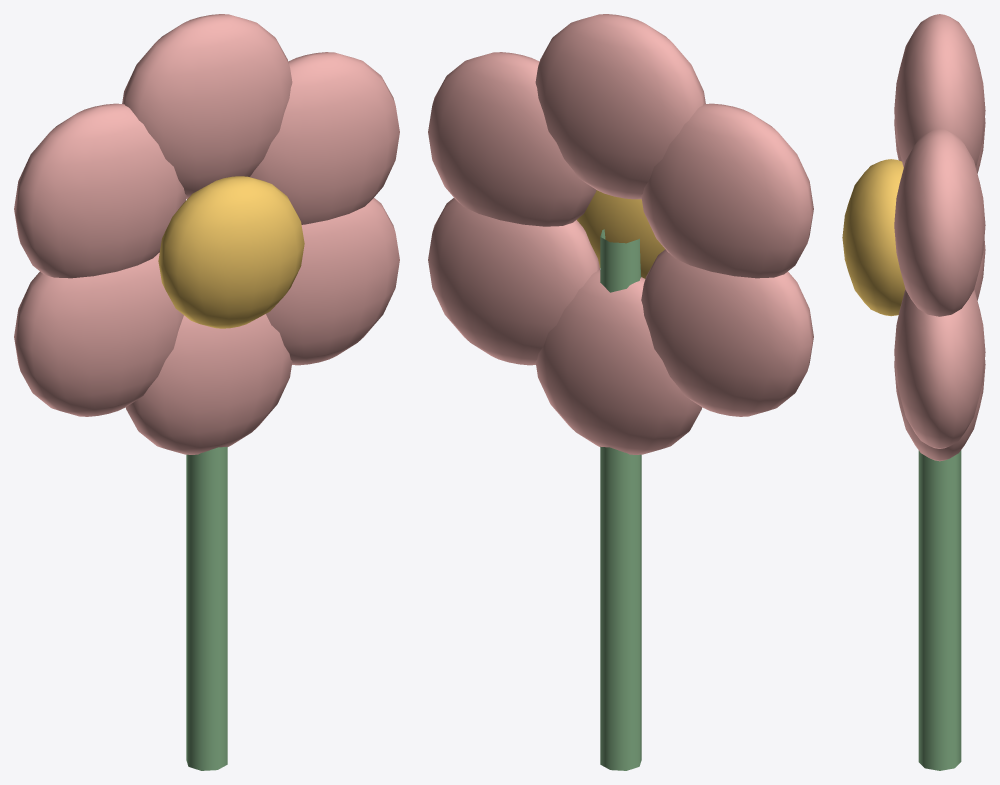
File: word-flower.glb
3 renders of one model, left to right at view 1: azimuth 30°, elevation 25°; view 2: azimuth 150°, elevation 25°; view 3: azimuth 270°, elevation 25°, orthographic.
Parts seen in each view (by area): view 1: flower petal.005, flower petal, flower petal.004, flower petal.001, flower center, flower petal.003, flower petal.002, flower stem; view 2: flower petal.005, flower petal, flower petal.004, flower petal.001, flower petal.002, flower petal.003, flower stem, flower center; view 3: flower stem, flower petal.001, flower petal.002, flower petal, flower center, flower petal.003.
Boxes of the visible parts, <box> form: flower petal.005: <box>14,103,186,278</box>; flower petal: <box>122,14,292,199</box>; flower petal.004: <box>14,253,183,416</box>; flower petal.001: <box>250,52,399,224</box>; flower center: <box>158,176,304,328</box>; flower petal.003: <box>125,314,292,454</box>; flower petal.002: <box>266,198,399,365</box>; flower stem: <box>186,446,227,770</box>; flower petal.005: <box>641,103,813,278</box>; flower petal: <box>535,14,705,199</box>; flower petal.004: <box>641,249,813,416</box>; flower petal.001: <box>428,52,596,226</box>; flower petal.002: <box>428,198,599,365</box>; flower petal.003: <box>535,270,702,454</box>; flower stem: <box>600,229,641,770</box>; flower center: <box>577,190,664,278</box>; flower stem: <box>918,450,961,770</box>; flower petal.001: <box>894,129,985,316</box>; flower petal.002: <box>894,289,985,448</box>; flower petal: <box>894,14,985,167</box>; flower center: <box>842,159,905,316</box>; flower petal.003: <box>894,360,985,461</box>.
Size of the model in its own units: 0.7184 by 1.34 by 0.235.
